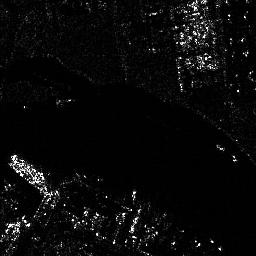ship: (9, 154, 47, 187)
